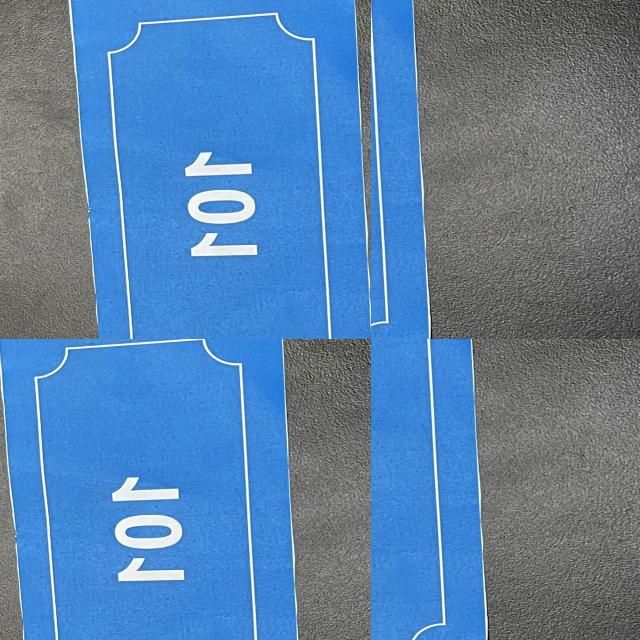Card: (371, 339, 568, 640), (371, 99, 501, 339), (33, 0, 371, 45), (0, 525, 25, 640)
